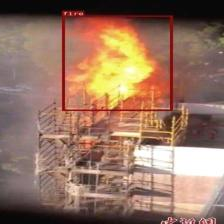fire: (62, 16, 172, 110)
